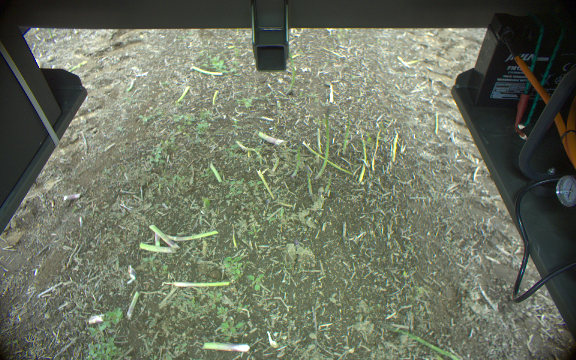aspa: (375, 321, 461, 360), (315, 108, 330, 180), (148, 221, 179, 250), (199, 339, 250, 354), (169, 279, 232, 289), (157, 231, 218, 241), (284, 50, 296, 96), (137, 241, 176, 255), (257, 130, 287, 148), (125, 290, 141, 320), (339, 116, 351, 155), (207, 159, 224, 184), (190, 65, 222, 77), (290, 146, 302, 178), (269, 150, 281, 174), (176, 84, 190, 102)
